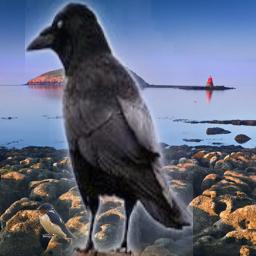Crow: (25, 0, 193, 256)
Swallow: (36, 203, 77, 239)
